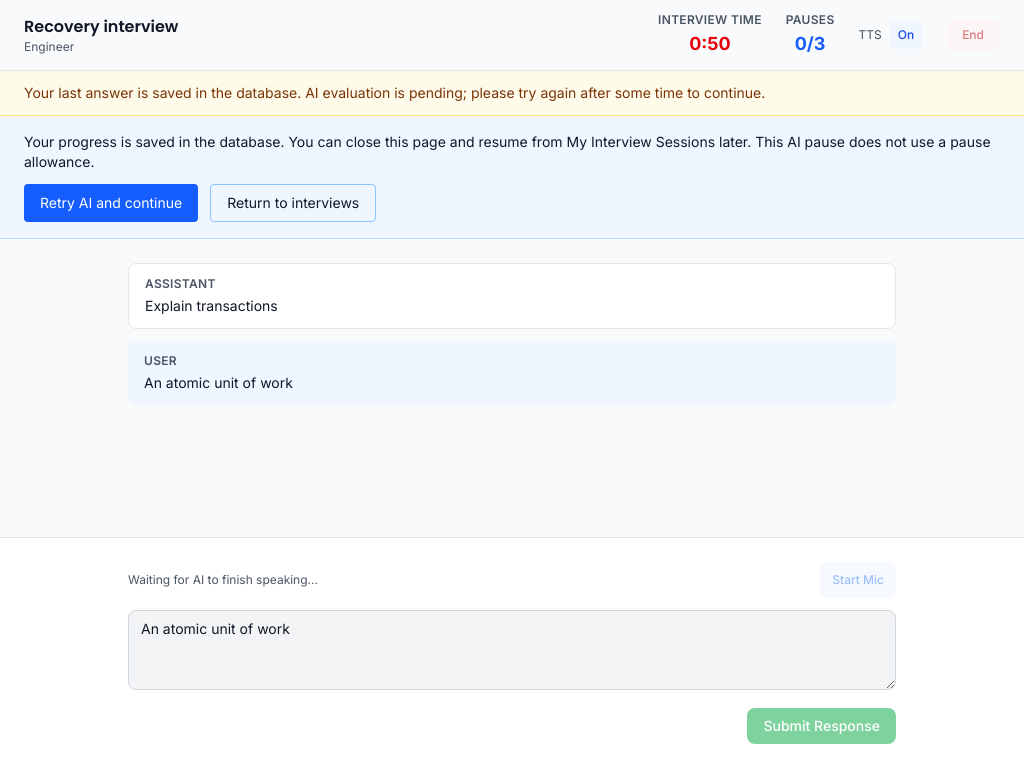
Scenario: database-backed interview recovery › recognizes a completed server turn when its success response is lost
The width and height of the screenshot is (1024, 768).
Step 1. Click the button "Retry AI and continue" → (111, 203), box [24, 184, 198, 222]
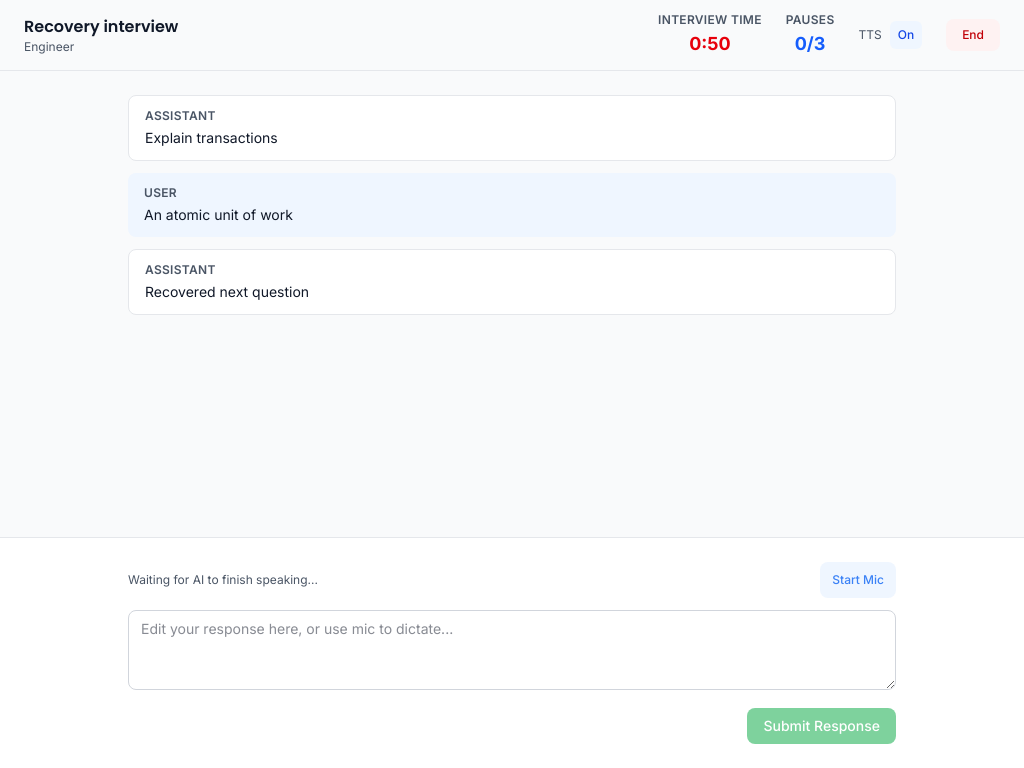
Expected: the text "Recovered next question" is shown, [145, 283, 309, 300]
Expected: the text box with placeholder "Edit your response here, or use mic to dictate..." is empty, [128, 610, 896, 690]
Expected: the text box with placeholder "Edit your response here, or use mic to dictate..." is enabled, [128, 610, 896, 690]
